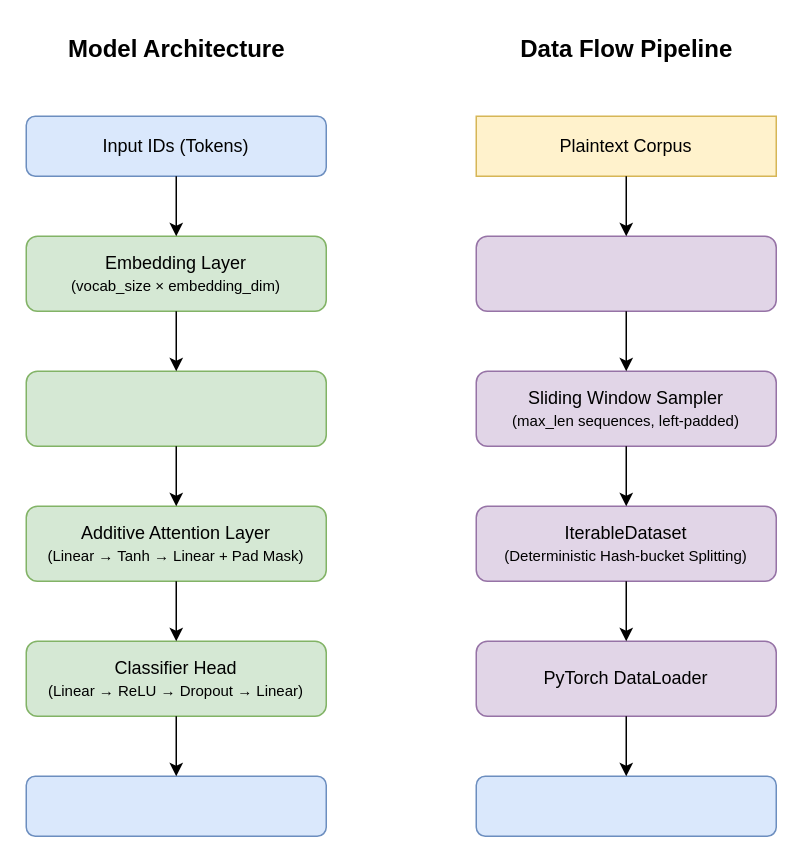
Some shapes in this 803 by 863 pixel diagram are drawn without their labels. Here are the shapes that lost their labels. From the top down, the centre of each, then its label:
At point (625, 273): "Byte-Pair Encoding (BPE) Tokenizer (Learned Subword Merges)".
At point (175, 408): "Bidirectional LSTM (hidden_dim × 2)".
At point (175, 805): "Next Token Logits".
At point (625, 805): "WordWave Model".
